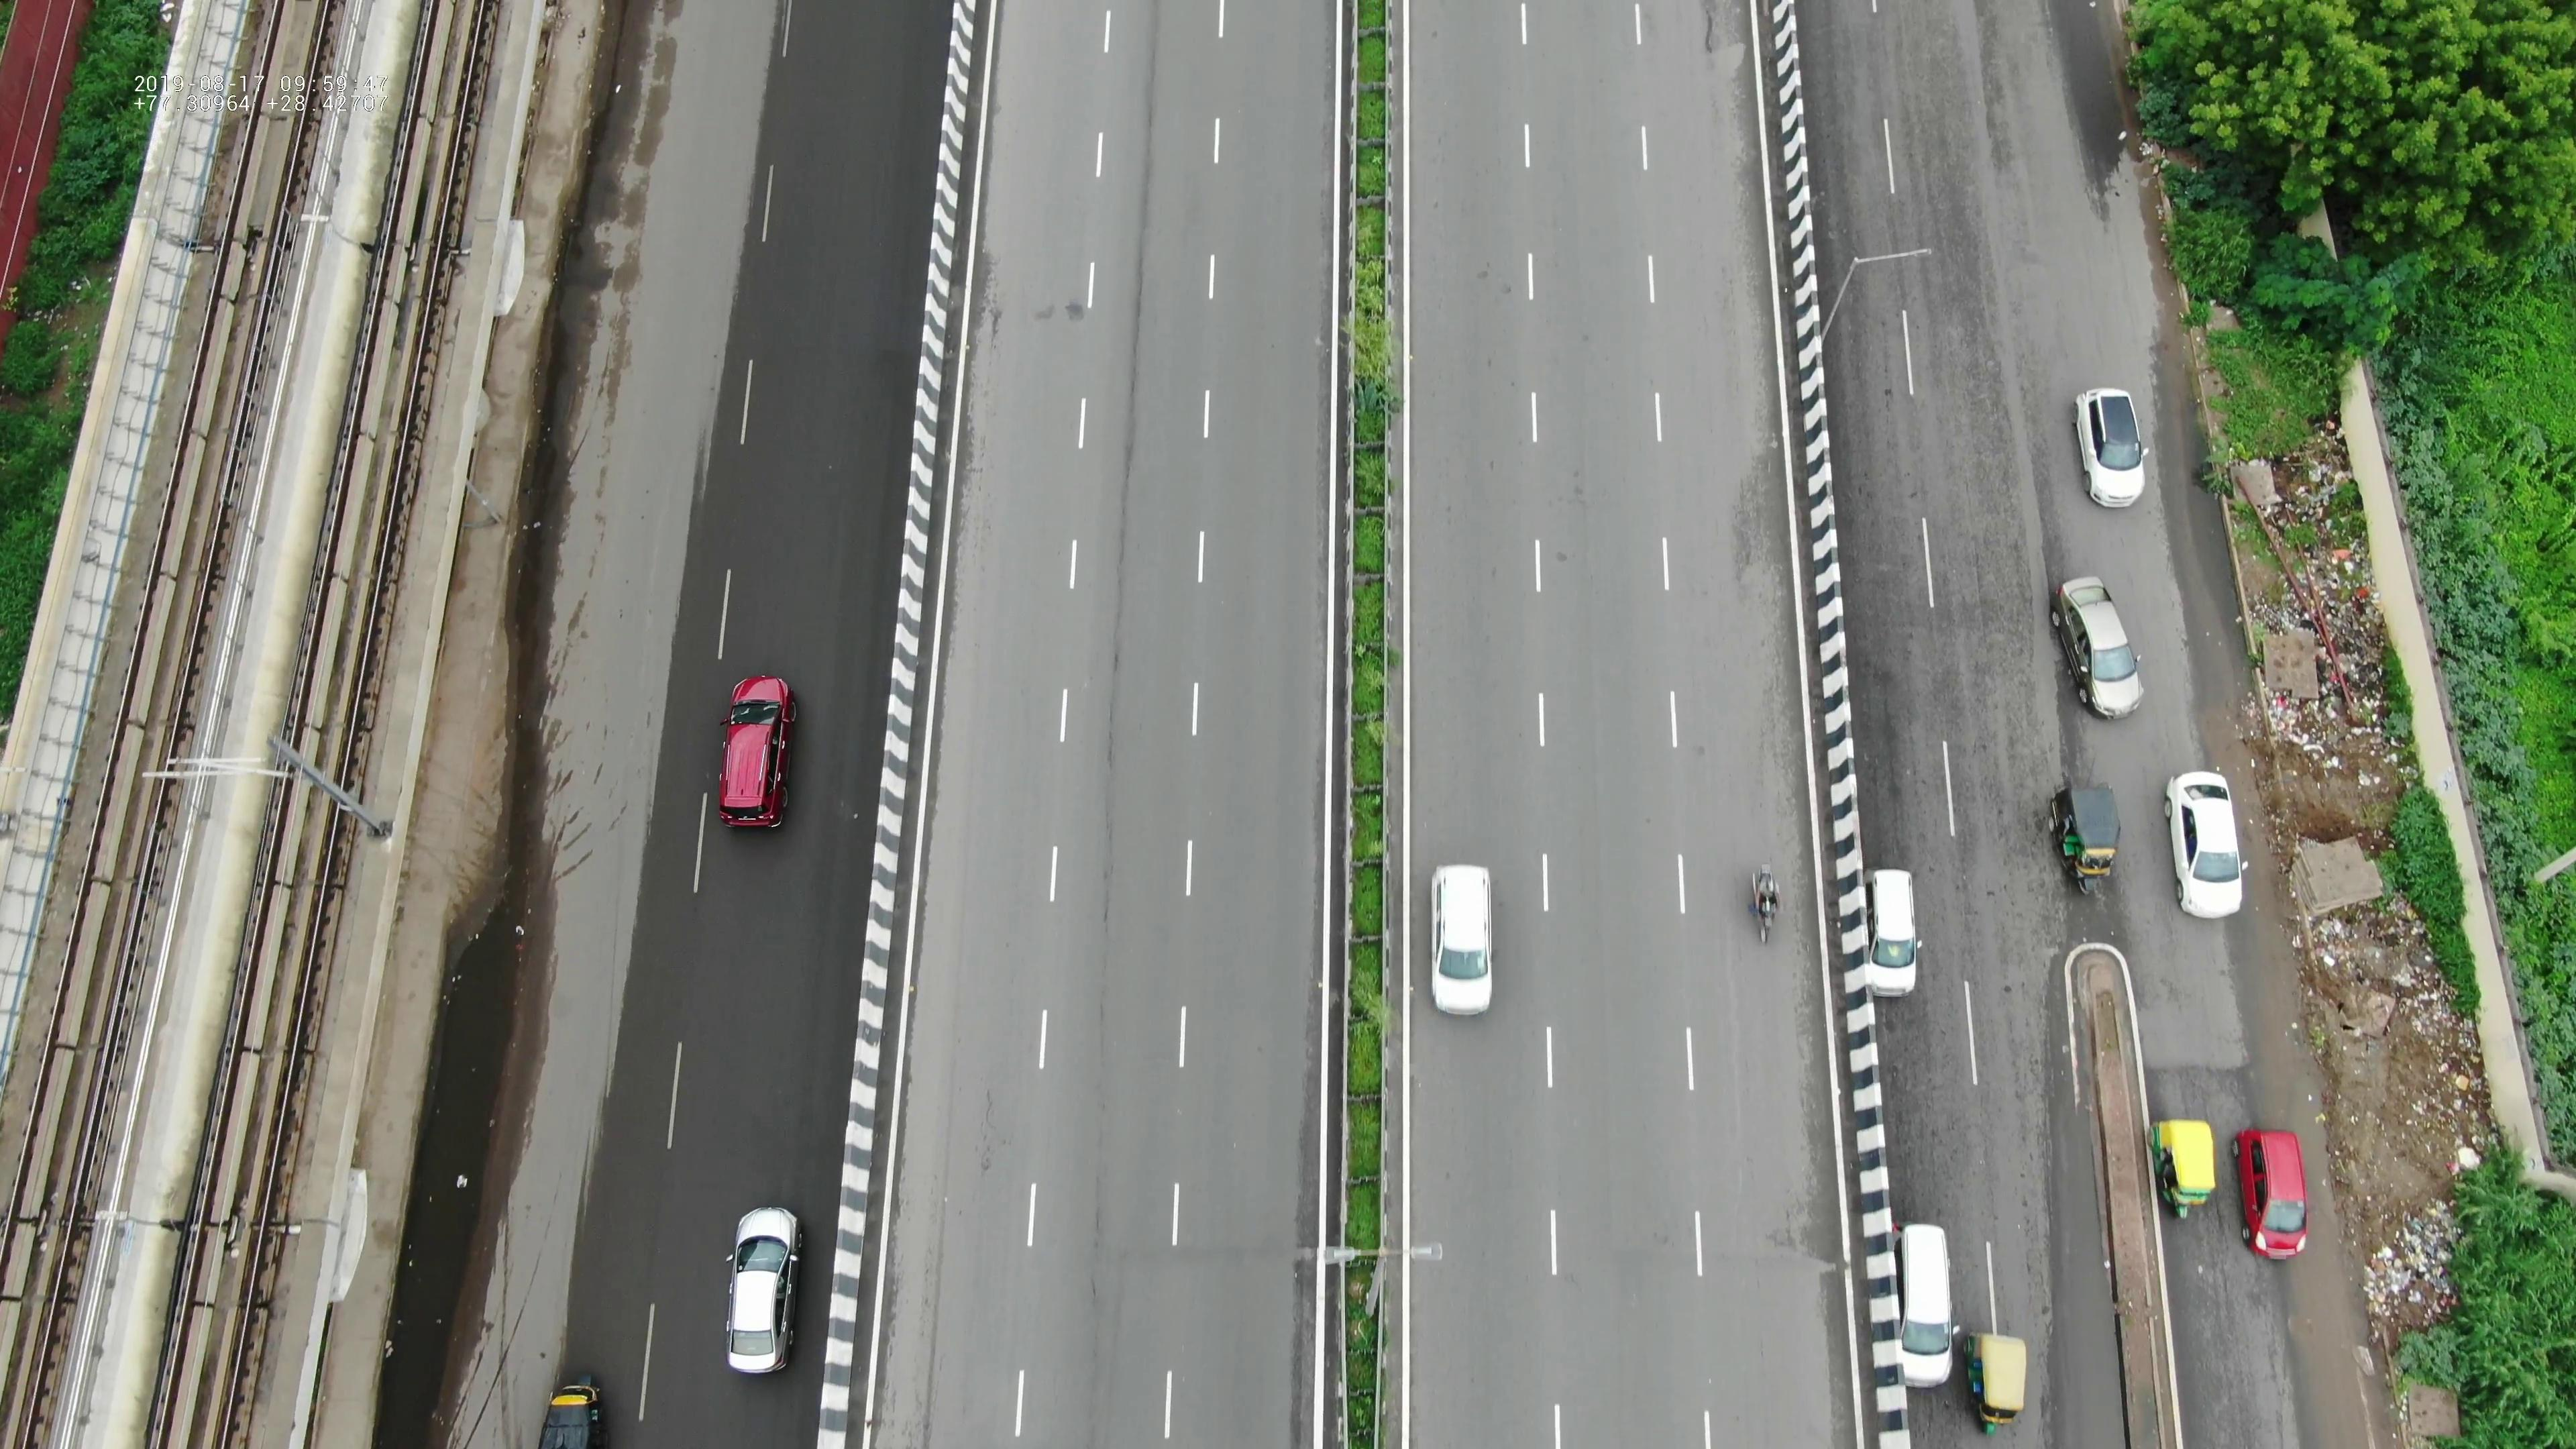Ravelling: (1088, 235, 1146, 842)
Road_side_garbage: (2235, 444, 2422, 773), (2293, 874, 2475, 1065)
Waterlogging: (400, 916, 534, 1322), (2029, 1072, 2139, 1445), (534, 322, 600, 419), (502, 655, 561, 736), (554, 232, 609, 303), (511, 481, 568, 547), (501, 566, 550, 614)
